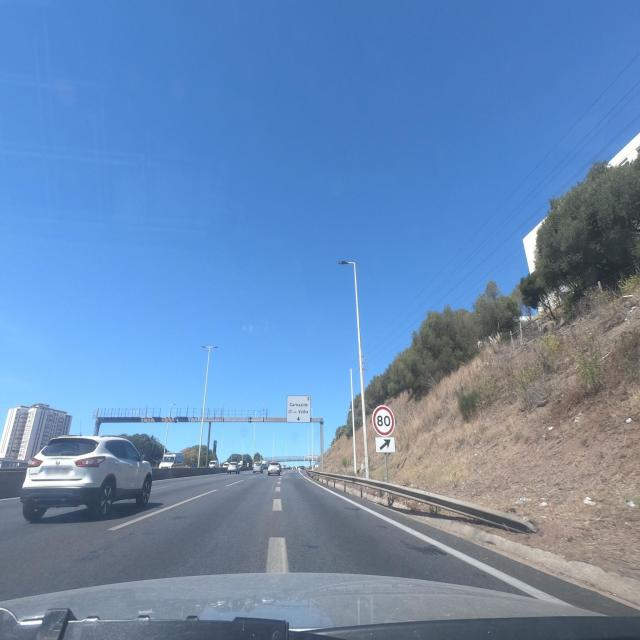car: (20, 433, 153, 522), (268, 461, 282, 476), (227, 462, 239, 474), (252, 462, 262, 474), (208, 460, 218, 468)
